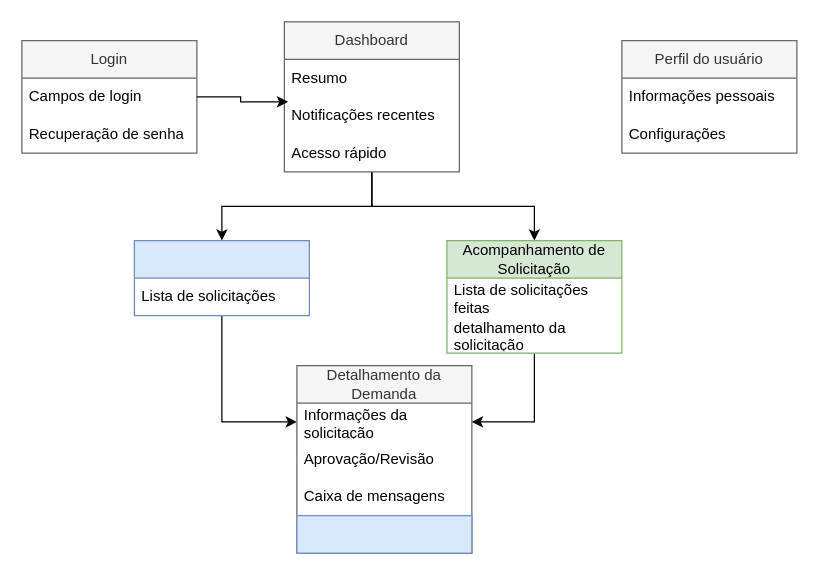
Some shapes in this 819 by 575 pixel diagram are drawn without their labels. Each missing label, with the box of its shape:
Atribuição de responsável: (296, 514, 472, 553)
Recepção de Demandas: (133, 239, 309, 316)
